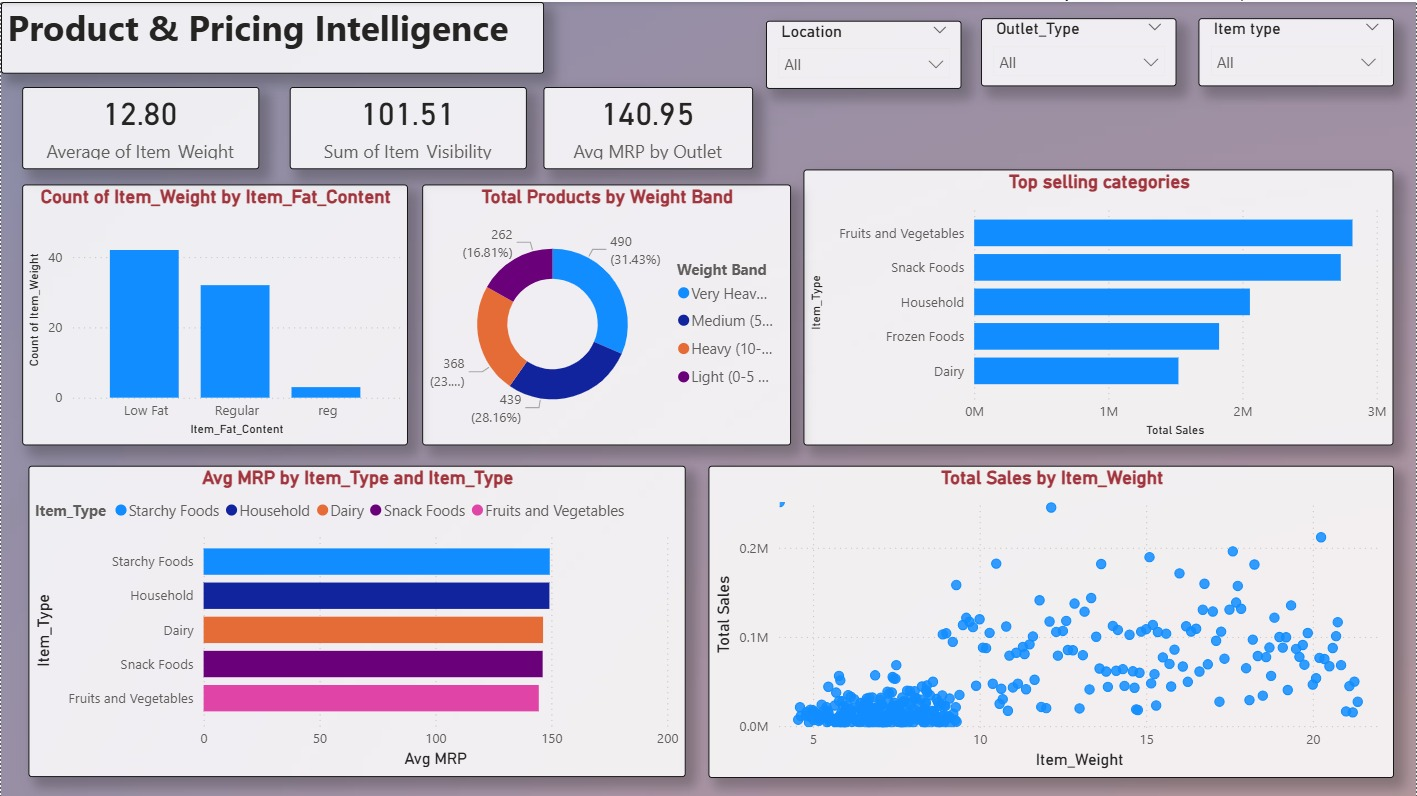

What the dashboard file says about the page in this screenshot:
{"tool":"powerbi","page":{"name":"Page 3","canvas":[1280,720],"ordinal":2},"visuals":[{"type":"slicer","fields":{"Values":["Dim_product.Item_Type"]},"box":[1082.7,15.1,177,61.7],"z":0},{"type":"slicer","fields":{"Values":["Dim_outlet.Outlet_Type"]},"box":[886.5,15.1,177,61.7],"z":1000},{"type":"slicer","fields":{"Values":["Dim_outlet.Outlet_Location_Type"]},"box":[691.6,16.5,177,61.7],"z":2000},{"type":"textbox","box":[0,0,491.3,64.5],"z":3000},{"type":"clusteredBarChart","title":"Top selling categories","fields":{"Category":["Dim_product.Item_Type"],"Y":["Measures (2).Total Sales"]},"box":[725.9,150.9,533.8,249.7],"z":4000},{"type":"barChart","fields":{"Y":["Measures (2).Avg MRP"],"Category":["Dim_product.Item_Type"],"Series":["Dim_product.Item_Type"]},"box":[24.7,419.9,594.2,281.3],"z":5000},{"type":"scatterChart","fields":{"X":["Dim_product.Item_Weight"],"Y":["Measures (2).Total Sales"]},"box":[639.5,419.9,620.2,282.7],"z":6000},{"type":"donutChart","fields":{"Y":["Measures (2).Total Products"],"Category":["Dim_product.Weight Band"]},"box":[381.5,164.7,333.4,236],"z":7000},{"type":"columnChart","fields":{"Category":["Dim_product.Item_Fat_Content"],"Y":["CountNonNull(Dim_product.Item_Weight)"]},"box":[19.2,164.7,348.5,236],"z":8000},{"type":"card","fields":{"Values":["Avg(Dim_product.Item_Weight)"]},"box":[19.2,76.8,214.1,74.1],"z":9000},{"type":"card","fields":{"Values":["Sum(Dim_product.Item_Visibility)"]},"box":[260.7,76.8,214.1,74.1],"z":10000},{"type":"card","fields":{"Values":["Measures (2).Avg MRP by Outlet"]},"box":[491.3,76.8,189.4,74],"z":11000}]}

Visuals, with their boxes in screenshot pixels (x1, y1, x2, y2), scaled from the page's 1280x720 canvas onto the 1417x796 screenshot:
slicer - Dim_product.Item_Type: bbox(1199, 17, 1395, 85)
slicer - Dim_outlet.Outlet_Type: bbox(981, 17, 1177, 85)
slicer - Dim_outlet.Outlet_Location_Type: bbox(766, 18, 962, 86)
textbox: bbox(0, 0, 544, 71)
"Top selling categories" clusteredBarChart: bbox(804, 167, 1395, 443)
barChart - Measures (2).Avg MRP x Dim_product.Item_Type: bbox(27, 464, 685, 775)
scatterChart - Dim_product.Item_Weight x Measures (2).Total Sales: bbox(708, 464, 1395, 777)
donutChart - Measures (2).Total Products x Dim_product.Weight Band: bbox(422, 182, 791, 443)
columnChart - Dim_product.Item_Fat_Content x CountNonNull(Dim_product.Item_Weight): bbox(21, 182, 407, 443)
card - Avg(Dim_product.Item_Weight): bbox(21, 85, 258, 167)
card - Sum(Dim_product.Item_Visibility): bbox(289, 85, 526, 167)
card - Measures (2).Avg MRP by Outlet: bbox(544, 85, 754, 167)
